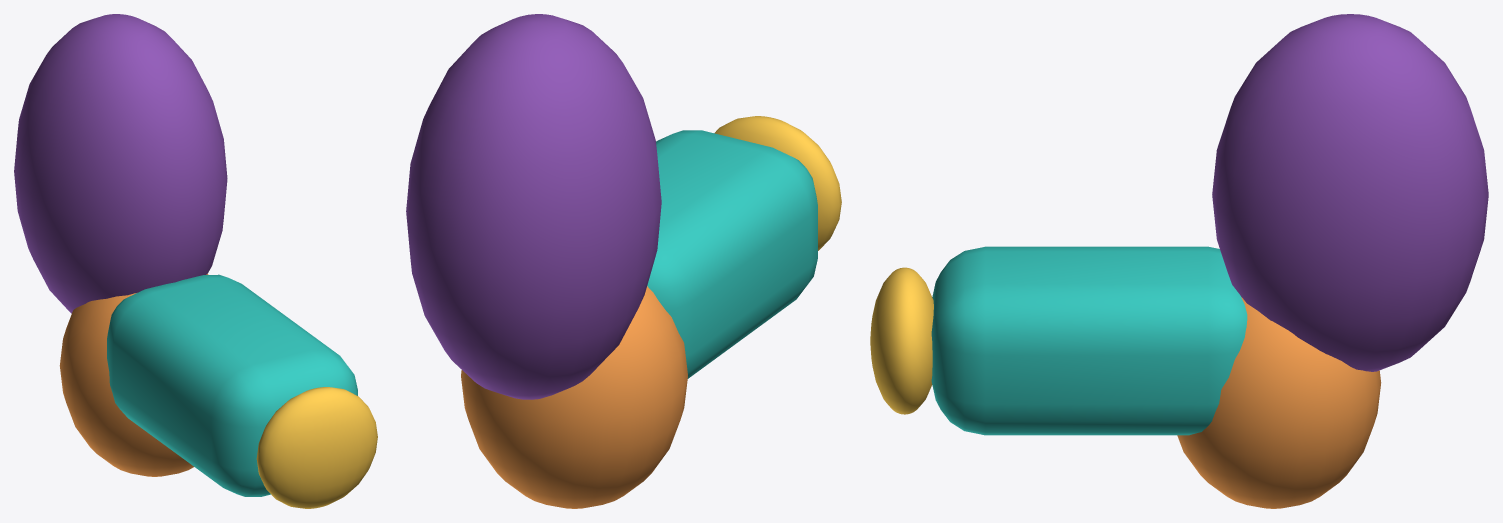
Rendered from fox_arm_r.glb.
3 views of the same model, side by side, from view 1: azimuth 30°, elevation 25°; view 2: azimuth 150°, elevation 25°; view 3: azimuth 270°, elevation 25° (orthographic). The views are drawn at different scales.
Parts seen in each view (by area): view 1: fox arm_r; view 2: fox arm_r; view 3: fox arm_r.
Part boxes in pixels (bbox=[...]): fox arm_r: bbox=[14, 14, 377, 508]; fox arm_r: bbox=[406, 14, 841, 508]; fox arm_r: bbox=[870, 14, 1488, 508].
Size of the model in its own units: 0.3 by 0.69 by 0.805.
